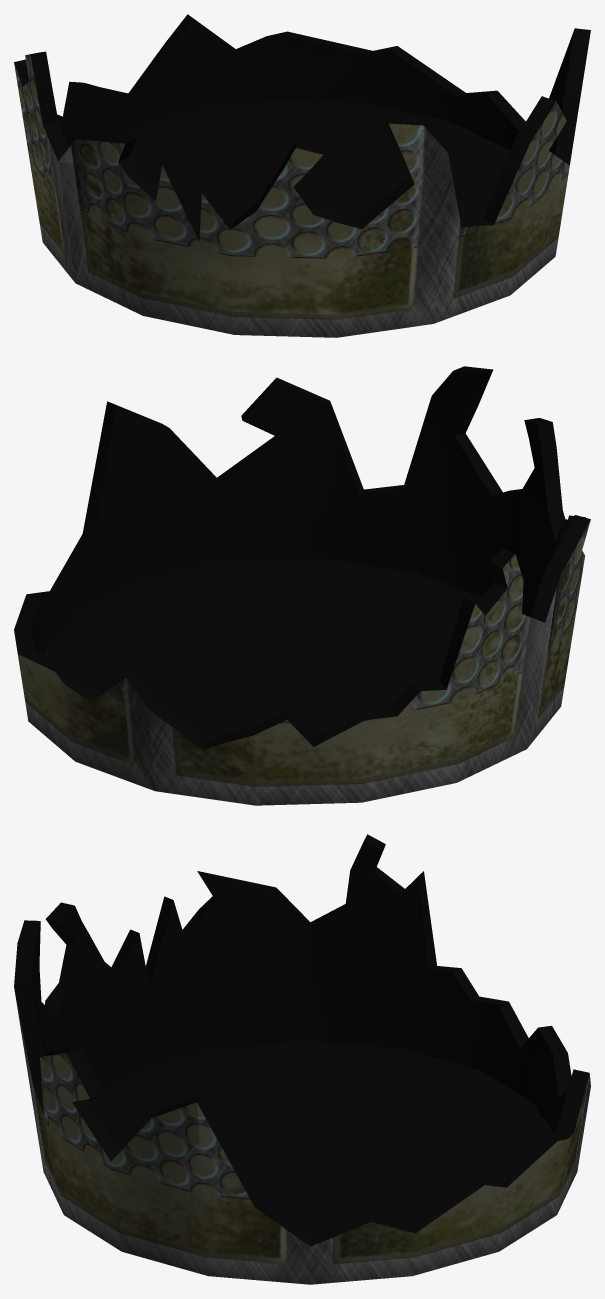
The model's file is Barrel_Fire_Explode_1of5.FBX.
The picture shows the model from 3 angles, top to bottom: view 1: azimuth 30°, elevation 25°; view 2: azimuth 150°, elevation 25°; view 3: azimuth 270°, elevation 25°; orthographic projection. The views are drawn at different scales.
Visible parts, largest first — view 1: Barrel_Fire_Shard1; view 2: Barrel_Fire_Shard1; view 3: Barrel_Fire_Shard1.
Part boxes in pixels (<box>): Barrel_Fire_Shard1: <box>14,14,590,337</box>; Barrel_Fire_Shard1: <box>14,366,590,805</box>; Barrel_Fire_Shard1: <box>14,834,590,1284</box>.
Size of the model in its own units: 0.7676 by 0.7883 by 0.3398.
Materials: 1 (1 with a texture image).
